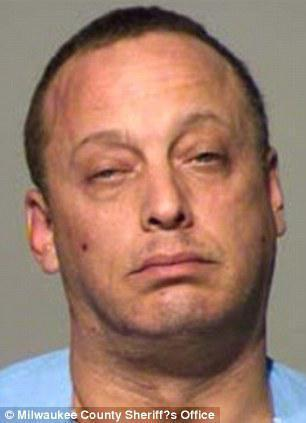Drunk: (53, 51, 259, 331)
